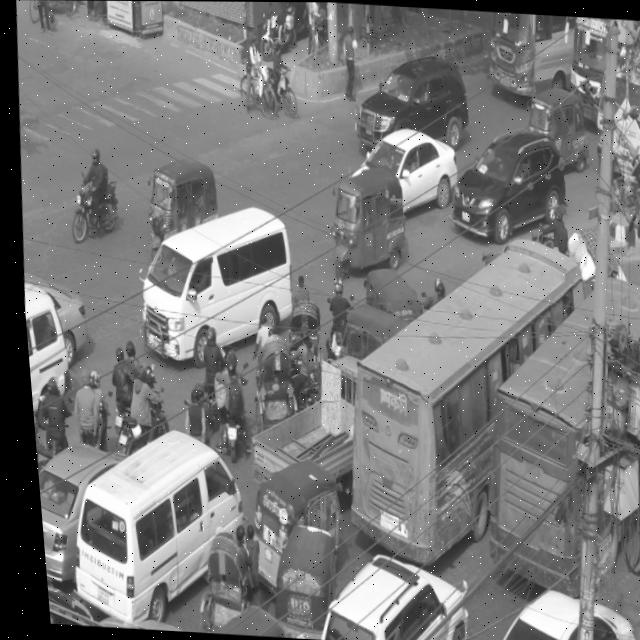cng: (312, 152, 414, 301), (233, 464, 338, 575), (251, 509, 338, 634), (135, 140, 224, 255), (319, 303, 411, 396), (521, 75, 591, 179)
rikshaw: (190, 523, 258, 636), (235, 318, 297, 441), (273, 269, 325, 369)
